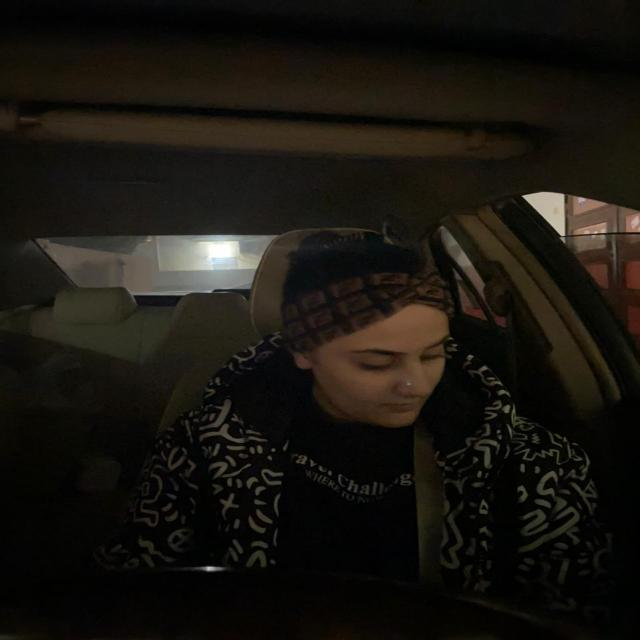drowsy: (278, 220, 479, 428)
